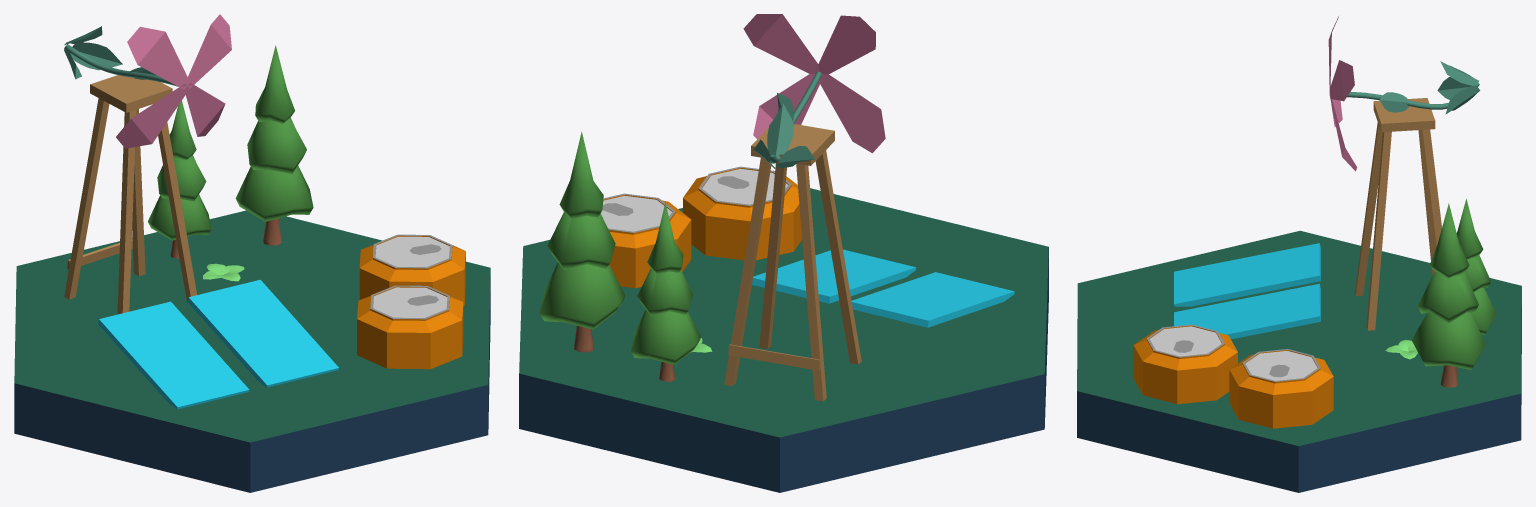
File: Macro - Renewable Energy.fbx
3 views of the same model, side by side, from view 1: azimuth 30°, elevation 25°; view 2: azimuth 150°, elevation 25°; view 3: azimuth 270°, elevation 25° (orthographic). The views are drawn at different scales.
Parts seen in each view (by area): view 1: Cylinder.005, WoodStand.001, flower4, Cube.004, Cube.003, drink_004.001, Tree_Spruce_tiny_01.002, drink_004.003, Tree_Spruce_tiny_01.001, Plane.011; view 2: Cylinder.005, WoodStand.001, flower4, Tree_Spruce_tiny_01.002, drink_004.001, Tree_Spruce_tiny_01.001, Cube.004, drink_004.003, Cube.003; view 3: Cylinder.005, drink_004.003, Tree_Spruce_tiny_01.002, drink_004.001, WoodStand.001, Cube.004, Cube.003, flower4, Tree_Spruce_tiny_01.001.
Boxes of the visible parts, x1,y1,x2,y2 form: Cylinder.005: (14, 210, 490, 492); WoodStand.001: (64, 75, 196, 314); flower4: (64, 14, 231, 148); Cube.004: (98, 301, 249, 409); Cube.003: (188, 279, 338, 387); drink_004.001: (357, 285, 463, 369); Tree_Spruce_tiny_01.002: (235, 45, 313, 245); drink_004.003: (359, 234, 465, 305); Tree_Spruce_tiny_01.001: (148, 101, 211, 258); Plane.011: (203, 263, 244, 281); Cylinder.005: (519, 188, 1048, 492); WoodStand.001: (724, 124, 861, 401); flower4: (743, 14, 885, 168); Tree_Spruce_tiny_01.002: (539, 131, 625, 352); drink_004.001: (683, 166, 801, 260); Tree_Spruce_tiny_01.001: (631, 202, 700, 381); Cube.004: (851, 272, 1014, 327); drink_004.003: (600, 193, 691, 288); Cube.003: (752, 249, 916, 303); Cylinder.005: (1077, 230, 1521, 492); drink_004.003: (1229, 349, 1333, 428); Tree_Spruce_tiny_01.002: (1411, 203, 1485, 387); drink_004.001: (1133, 324, 1237, 404); WoodStand.001: (1355, 98, 1441, 330); Cube.004: (1174, 243, 1320, 306); Cube.003: (1174, 283, 1320, 339); flower4: (1328, 16, 1480, 171); Tree_Spruce_tiny_01.001: (1456, 198, 1496, 335).
Bounding box in the file's own units: 197 × 141 × 172.
